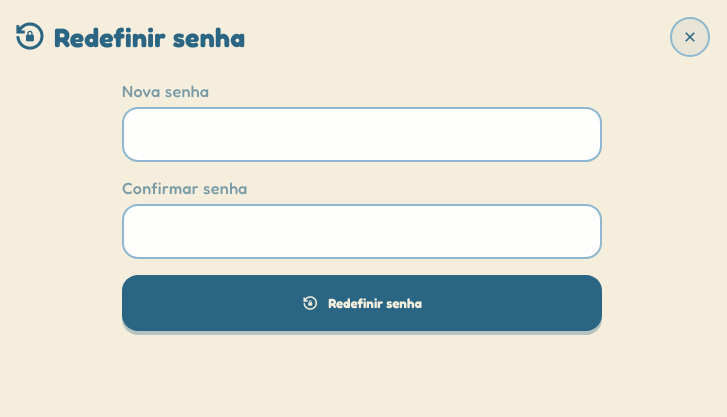
Test: ResetPassword › avisa quando as senhas não coincidem
The width and height of the screenshot is (727, 417).
Step 1. Type "novaSenha123" into the password field labelled "Nova senha" → (362, 134), box [122,107,602,162]
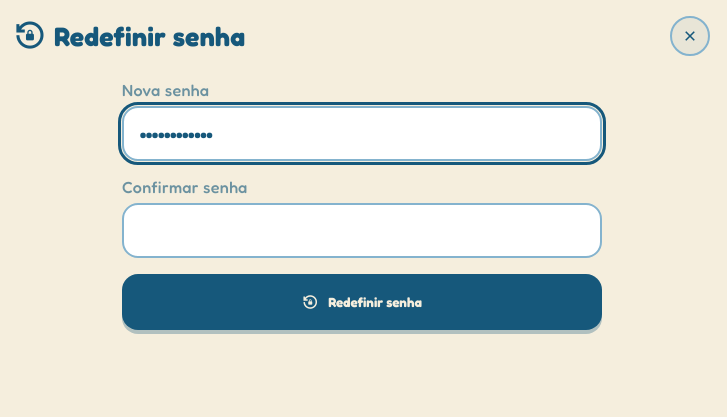
Step 2. Type "diferente123" into the password field labelled "Confirmar senha" → (362, 230), box [122,203,602,258]
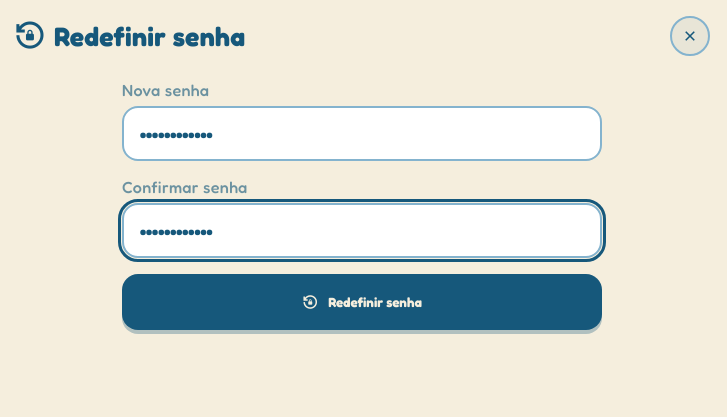
Step 3. Click the button "Redefinir senha" → (362, 302), box [122,274,602,330]
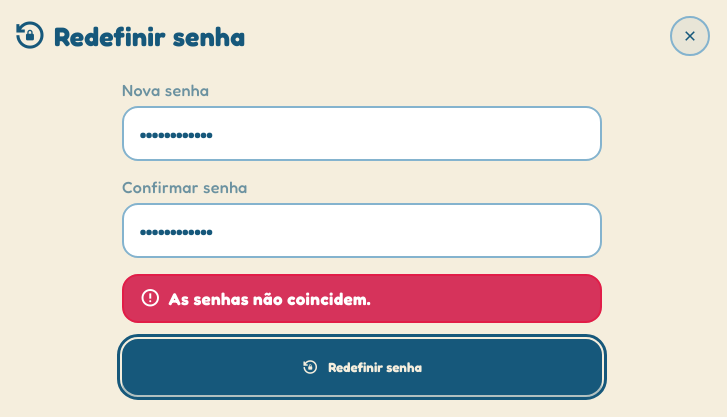
expect the message reads "As senhas não coincidem.": met, box [168,288,371,309]
